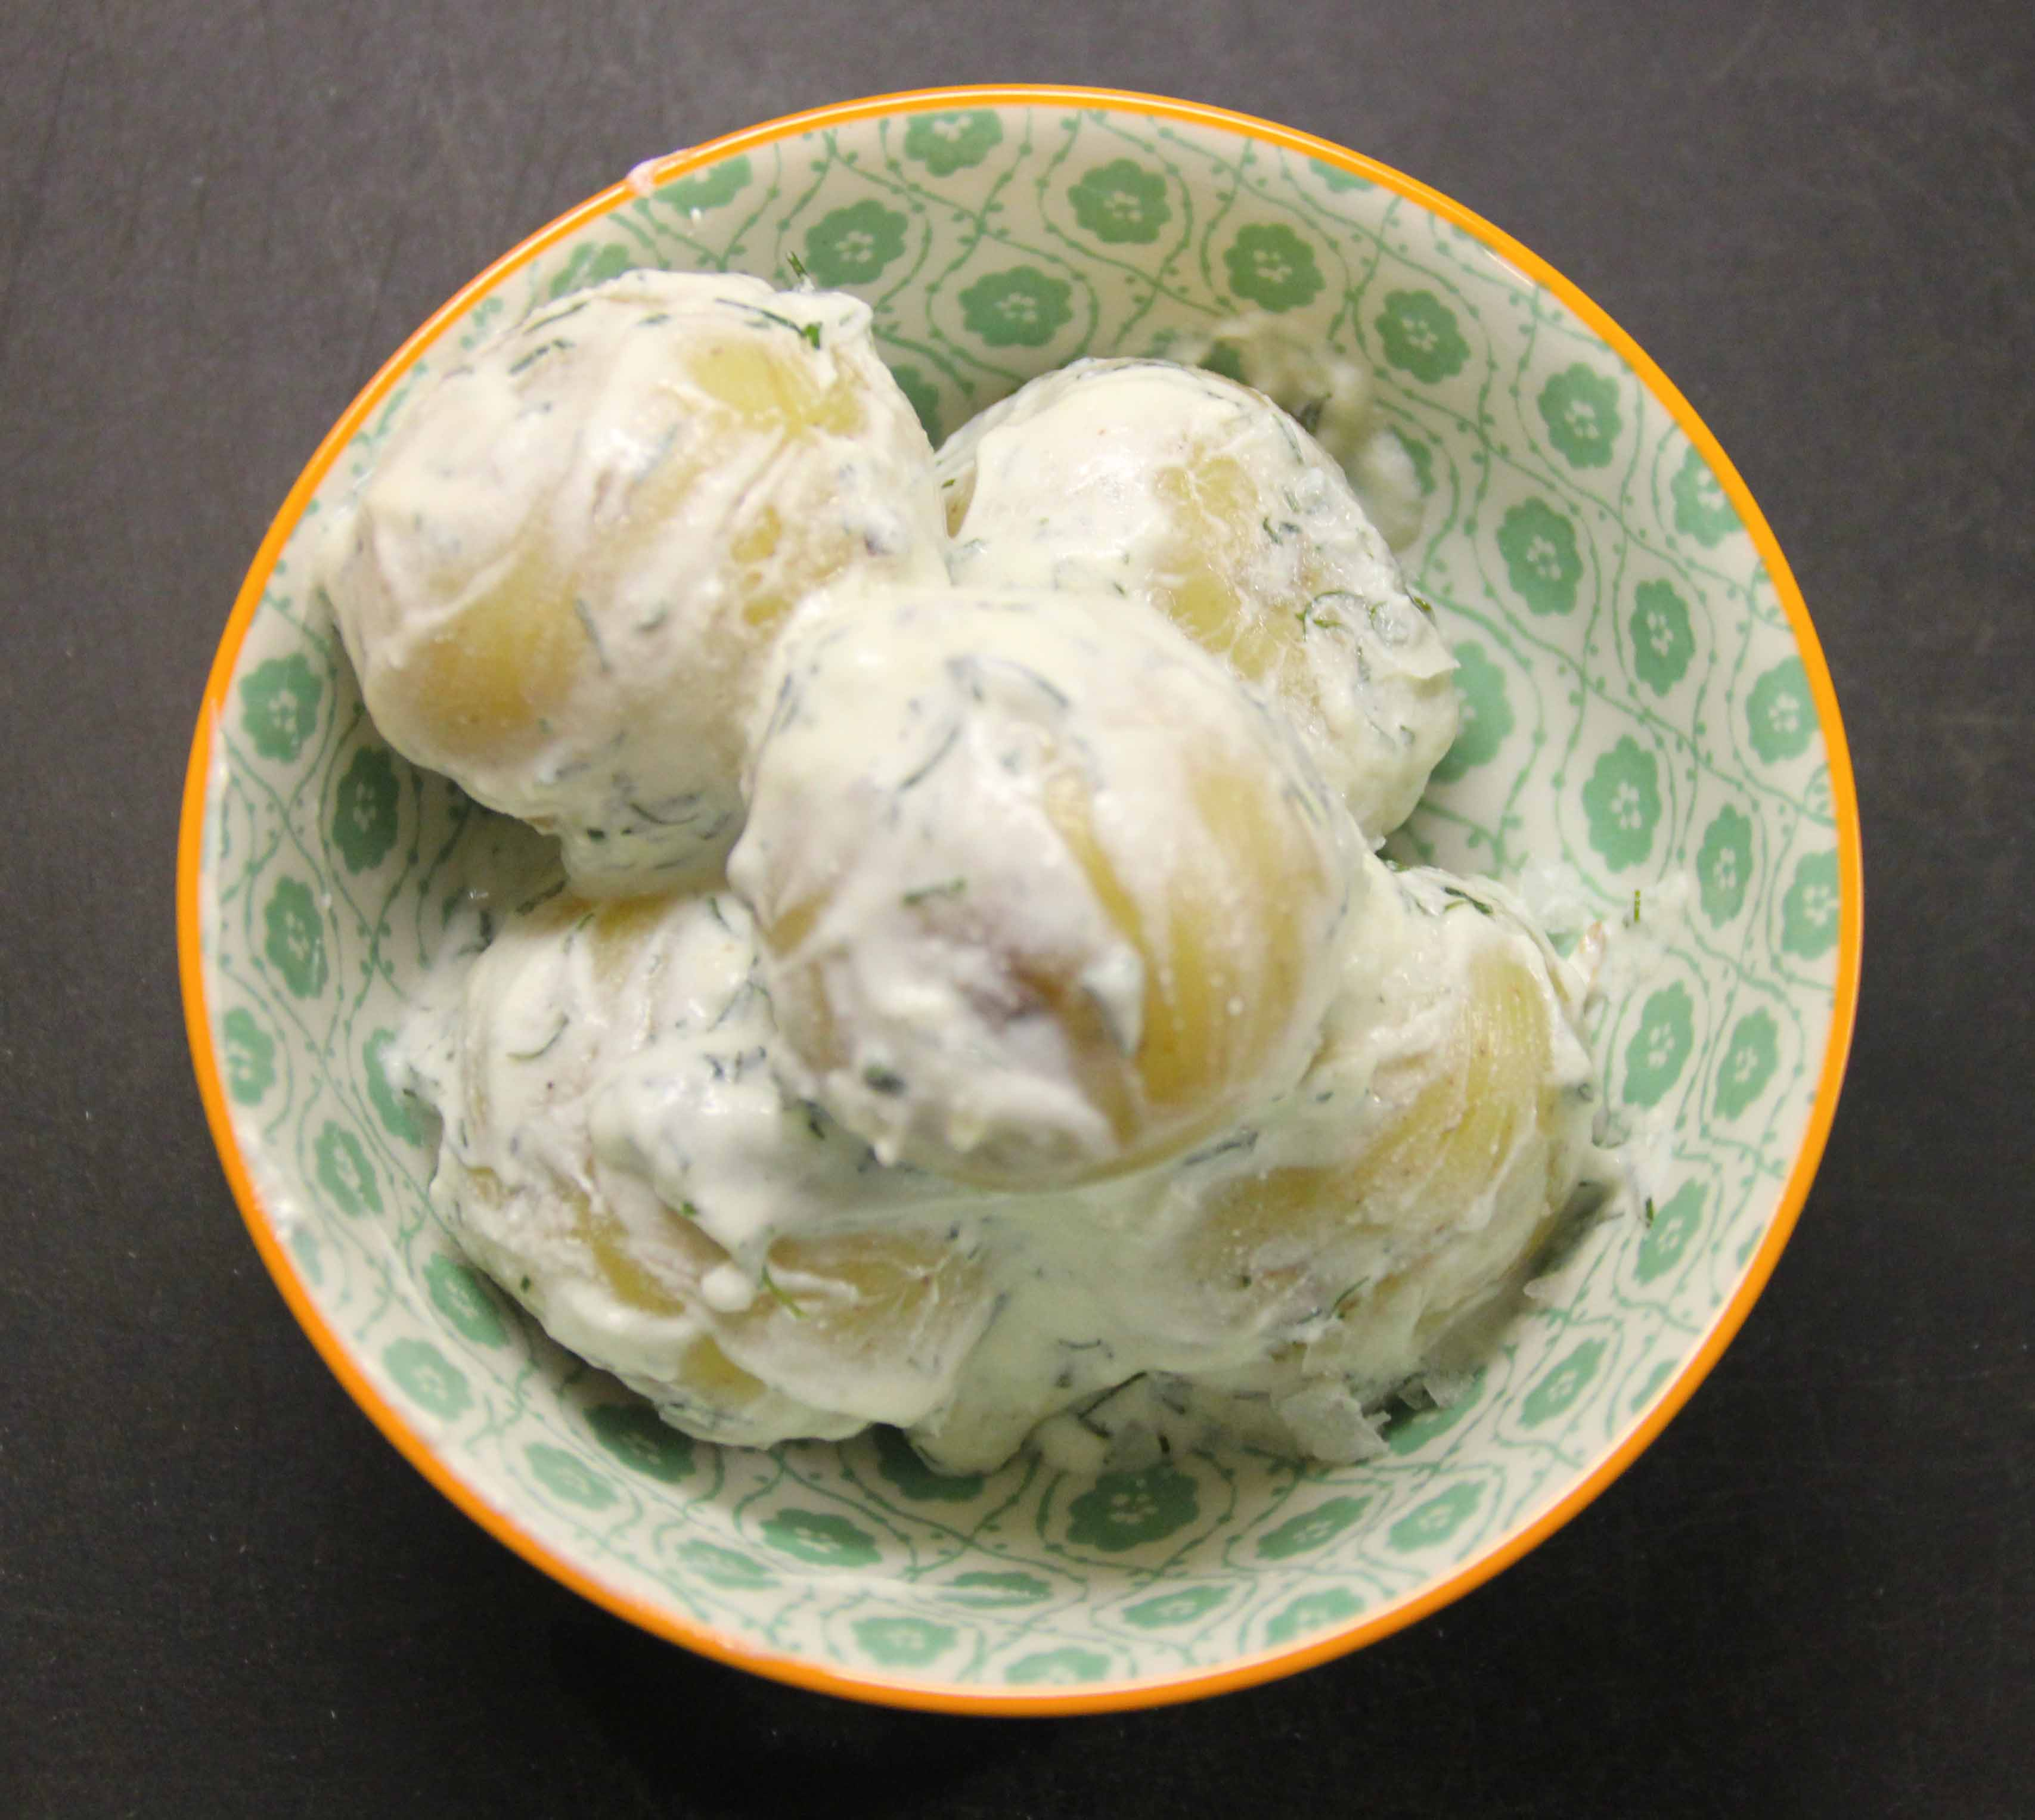boiled potatoes: (378, 320, 1590, 1383)
